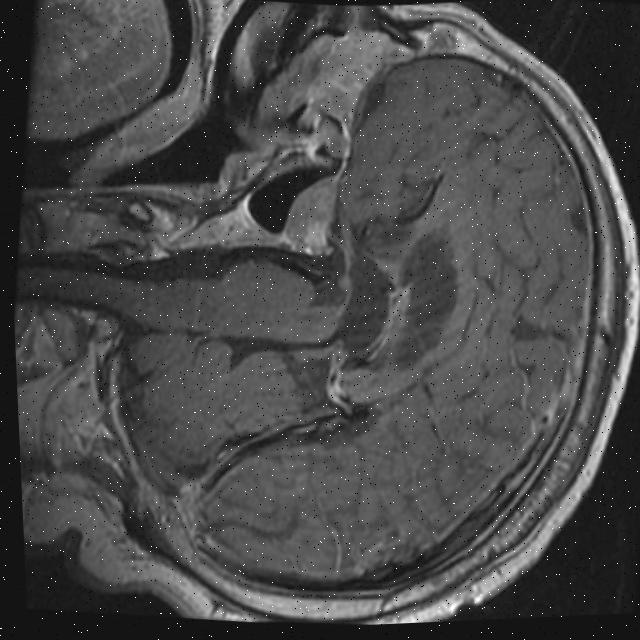Pituitary: (276, 170, 342, 256)
